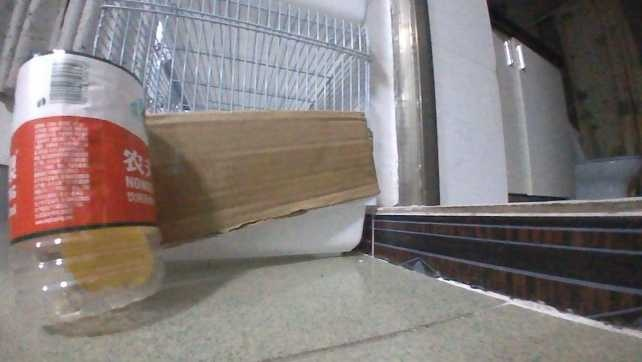door_sill: (363, 197, 640, 326)
toilet: (565, 152, 640, 196)
